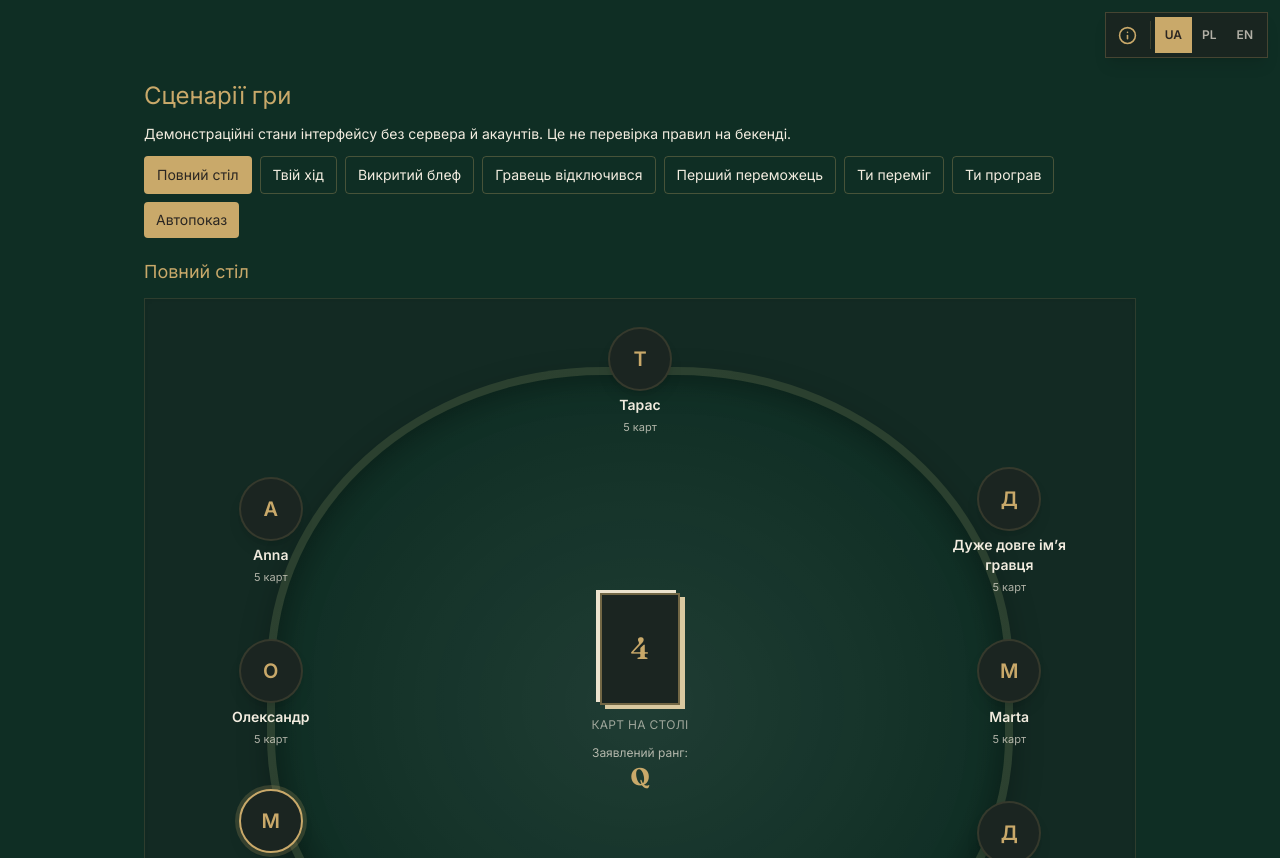
Сценарії ігрового столу › shows your defeat
This screenshot has width=1280, height=858.
Expected: the heading "Сценарії гри" is shown, [144,81,291,110]
Click the button "Ти програв" at [1004, 175], box [952,156,1055,194]
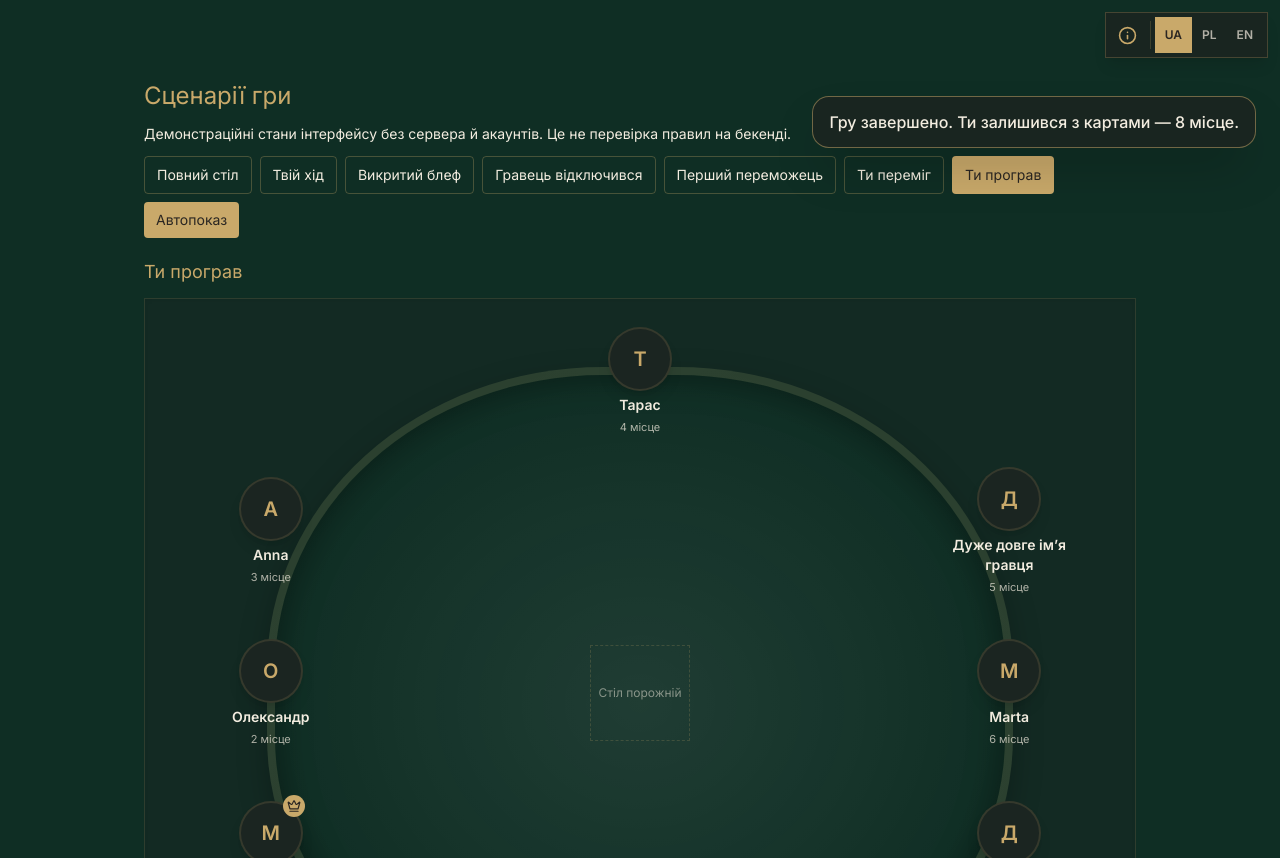
Result: the text "Гру завершено. Ти залишився з картами — 8 місце." is shown at [829,109,1239,135]
